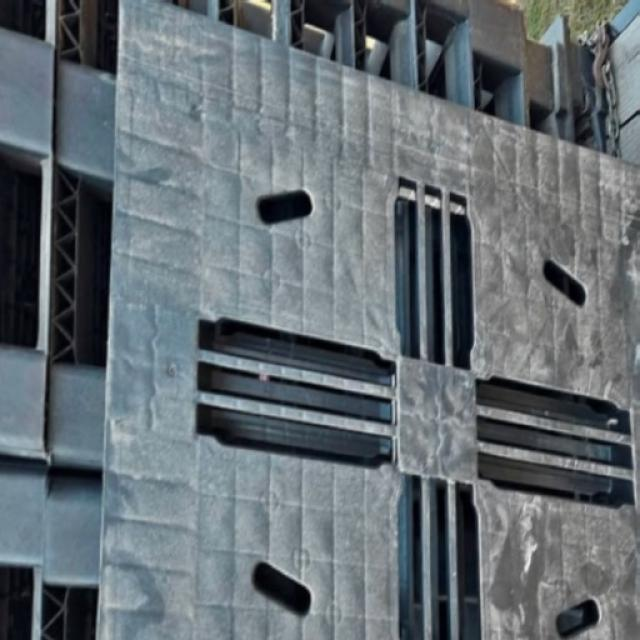non-igps: (89, 0, 640, 640), (160, 0, 614, 173), (0, 0, 122, 640)
